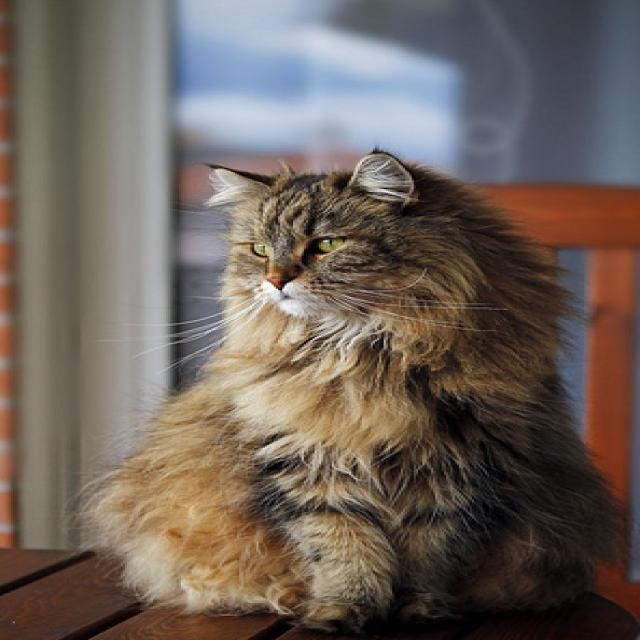Maine Coon: (84, 143, 633, 640)
